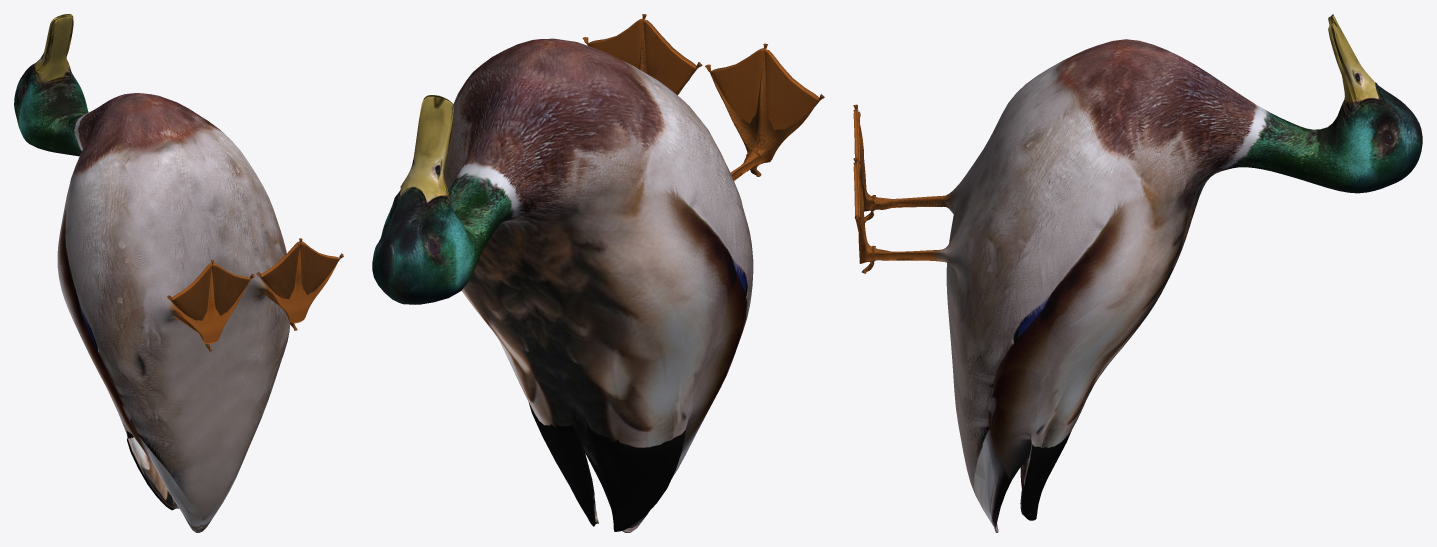
The model's file is duck5.obj.
3 views of the same model, side by side, from view 1: azimuth 30°, elevation 25°; view 2: azimuth 150°, elevation 25°; view 3: azimuth 270°, elevation 25° (orthographic). The views are drawn at different scales.
Parts seen in each view (by area): view 1: 12248_Bird_v1_L2; view 2: 12248_Bird_v1_L2; view 3: 12248_Bird_v1_L2.
Boxes of the visible parts, <box> form: 12248_Bird_v1_L2: <box>14,14,343,532</box>; 12248_Bird_v1_L2: <box>372,14,824,532</box>; 12248_Bird_v1_L2: <box>853,14,1422,532</box>.
Bounding box in the file's own units: 0.6912 × 1.4 × 1.4.
1 material, 1 textured.
